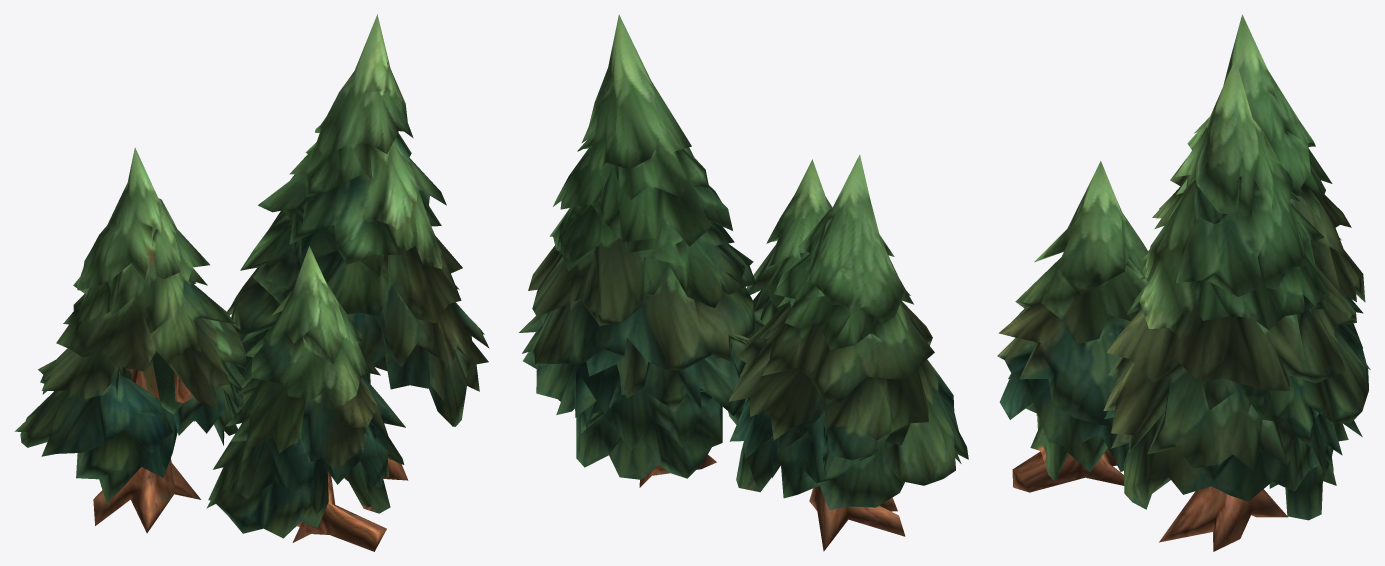
File: treegroup_hi.glb
3 renders of one model, left to right at view 1: azimuth 30°, elevation 25°; view 2: azimuth 150°, elevation 25°; view 3: azimuth 270°, elevation 25°, orthographic. The views are drawn at different scales.
Visible parts, largest first — view 1: Tree.001; view 2: Tree.001; view 3: Tree.001.
Part boxes in pixels (<box>): Tree.001: <box>14,14,489,551</box>; Tree.001: <box>519,14,968,551</box>; Tree.001: <box>997,14,1370,551</box>.
Bounding box in the file's own units: 1.99 × 1.96 × 1.35.
1 material, 1 textured.
